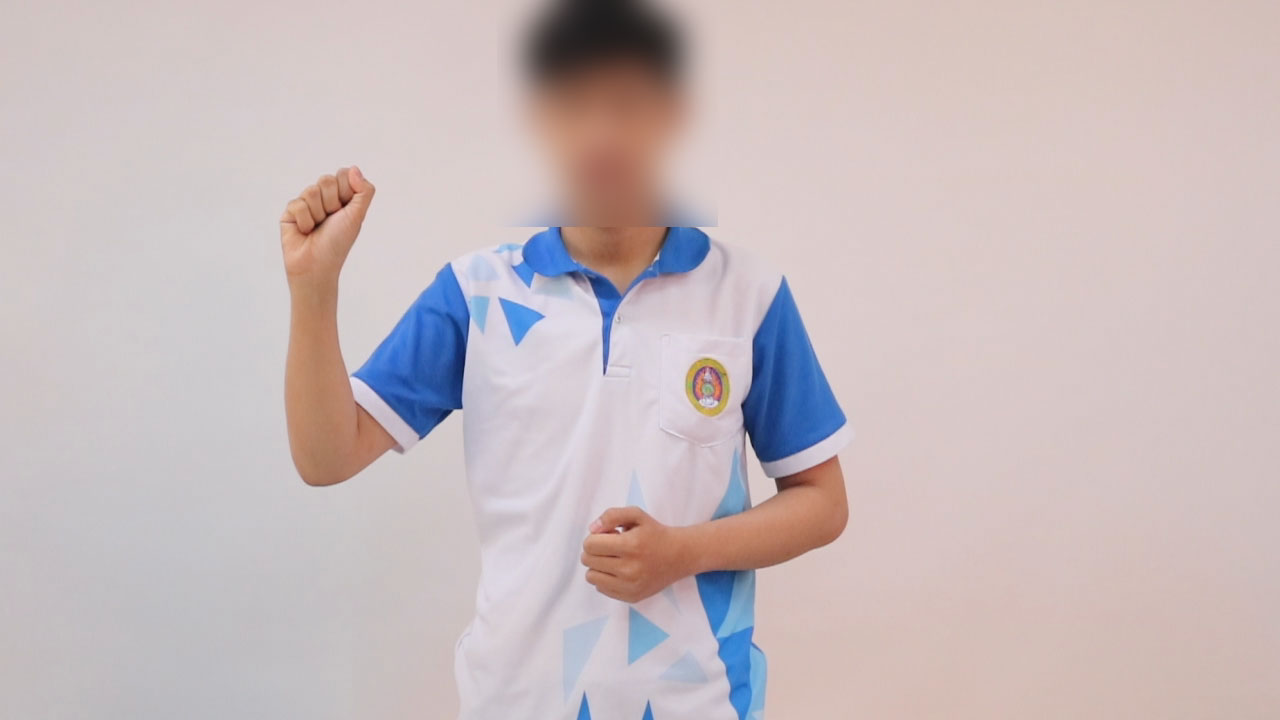sor: (264, 160, 384, 286)
